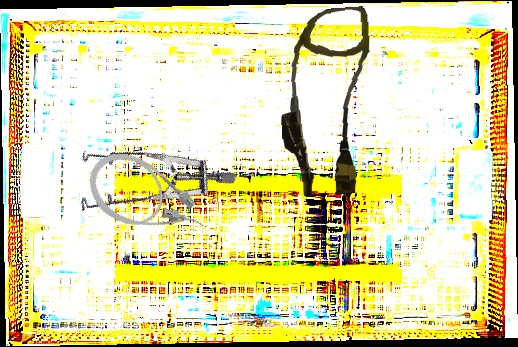Cannula: (273, 5, 381, 199), (76, 139, 216, 262)
Speculum: (56, 98, 239, 273)
